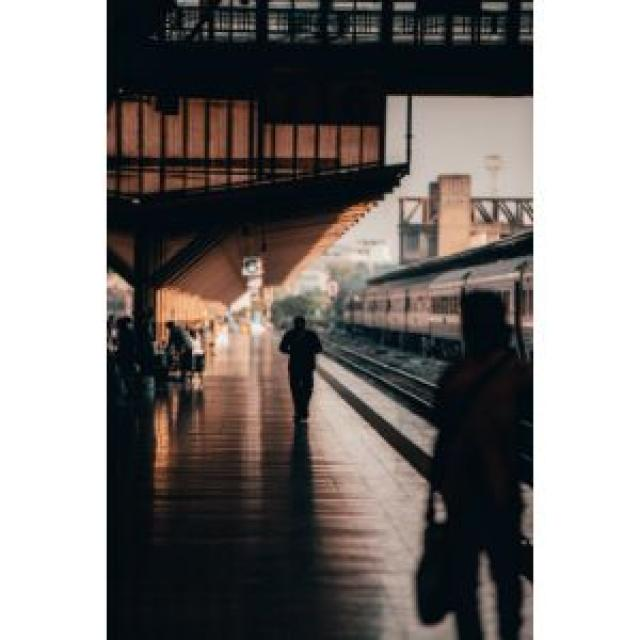nonfall: (427, 276, 537, 640), (275, 299, 348, 443)
